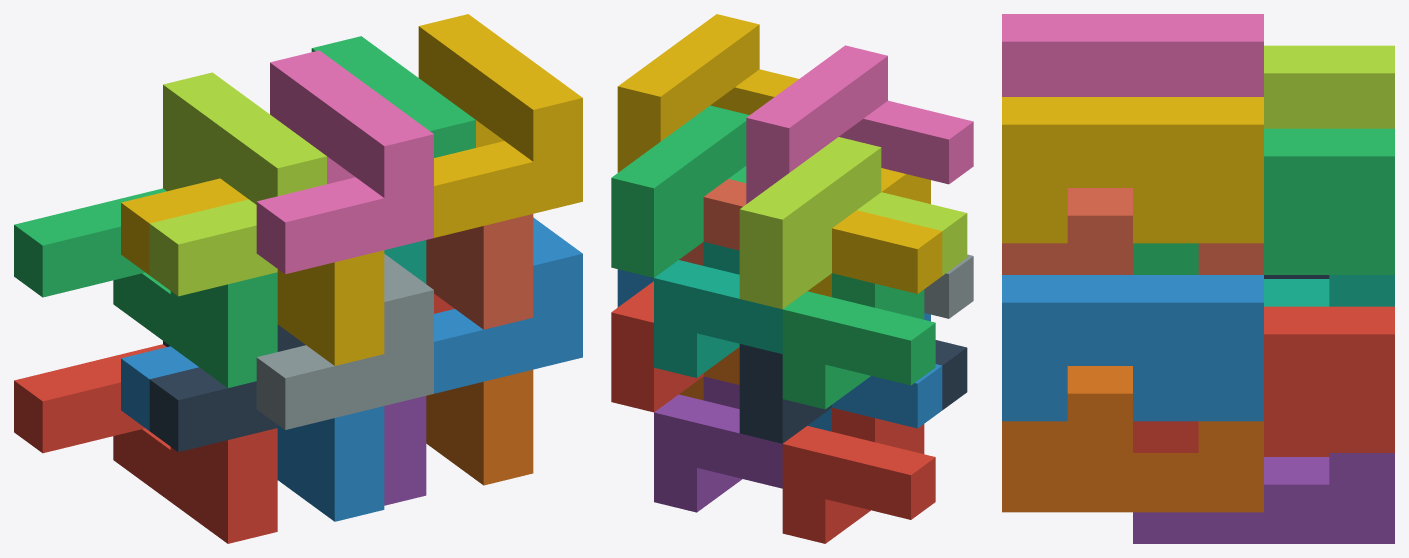
Rendered from tiling.obj.
The picture shows the model from 3 angles, left to right: view 1: azimuth 30°, elevation 25°; view 2: azimuth 150°, elevation 25°; view 3: azimuth 270°, elevation 25°; orthographic projection. The views are drawn at different scales.
Visible parts, largest first — view 1: copy_2_domain_4, copy_2_domain_8, copy_2_domain_3, copy_1_domain_1, copy_1_domain_3, copy_2_domain_2, copy_1_domain_4, copy_2_domain_6, copy_1_domain_2, copy_1_domain_6, copy_1_domain_8, copy_2_domain_1 (+3 smaller); view 2: copy_2_domain_4, copy_2_domain_3, copy_1_domain_1, copy_1_domain_3, copy_2_domain_7, copy_2_domain_8, copy_1_domain_5, copy_1_domain_7, copy_1_domain_4, copy_2_domain_1, copy_2_domain_5, copy_1_domain_2 (+4 smaller); view 3: copy_2_domain_6, copy_2_domain_8, copy_1_domain_6, copy_2_domain_4, copy_2_domain_5, copy_2_domain_7, copy_1_domain_5, copy_2_domain_3, copy_1_domain_8, copy_1_domain_7.
Part boxes in pixels (x1,y1,x2,y2): copy_2_domain_4: (256, 50, 433, 274); copy_2_domain_8: (418, 14, 582, 237); copy_2_domain_3: (149, 72, 326, 296); copy_1_domain_1: (14, 344, 277, 543); copy_1_domain_3: (14, 188, 277, 387); copy_2_domain_2: (256, 254, 433, 429); copy_1_domain_4: (121, 178, 384, 365); copy_2_domain_6: (434, 217, 582, 393); copy_1_domain_2: (121, 346, 384, 521); copy_1_domain_6: (426, 369, 533, 485); copy_1_domain_8: (426, 214, 533, 329); copy_2_domain_1: (149, 324, 305, 451); copy_2_domain_4: (746, 45, 973, 203); copy_2_domain_3: (739, 137, 967, 309); copy_1_domain_1: (782, 407, 935, 543); copy_1_domain_3: (782, 273, 935, 409); copy_2_domain_7: (611, 105, 749, 277); copy_2_domain_8: (617, 14, 798, 172); copy_1_domain_5: (654, 376, 782, 512); copy_1_domain_7: (654, 242, 782, 377); copy_1_domain_4: (807, 168, 942, 297); copy_2_domain_1: (739, 340, 967, 443); copy_2_domain_5: (611, 281, 703, 412); copy_1_domain_2: (807, 313, 942, 431); copy_2_domain_6: (1002, 275, 1263, 421); copy_2_domain_8: (1002, 97, 1263, 243); copy_1_domain_6: (1002, 366, 1263, 512); copy_2_domain_4: (1002, 14, 1263, 96); copy_2_domain_5: (1133, 306, 1394, 452); copy_2_domain_7: (1133, 128, 1394, 274); copy_1_domain_5: (1133, 453, 1394, 543); copy_2_domain_3: (1264, 45, 1394, 128); copy_1_domain_8: (1002, 188, 1263, 274); copy_1_domain_7: (1264, 275, 1394, 306).
Bounding box in the file's own units: 8 × 8 × 6.
